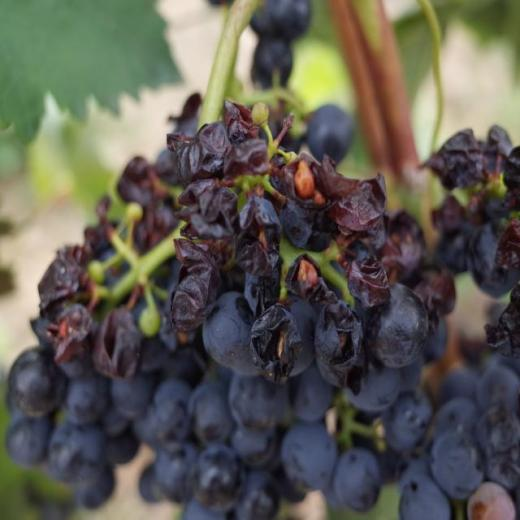Orange: (5, 92, 520, 518), (165, 98, 427, 394), (417, 126, 519, 357), (250, 0, 310, 89)
